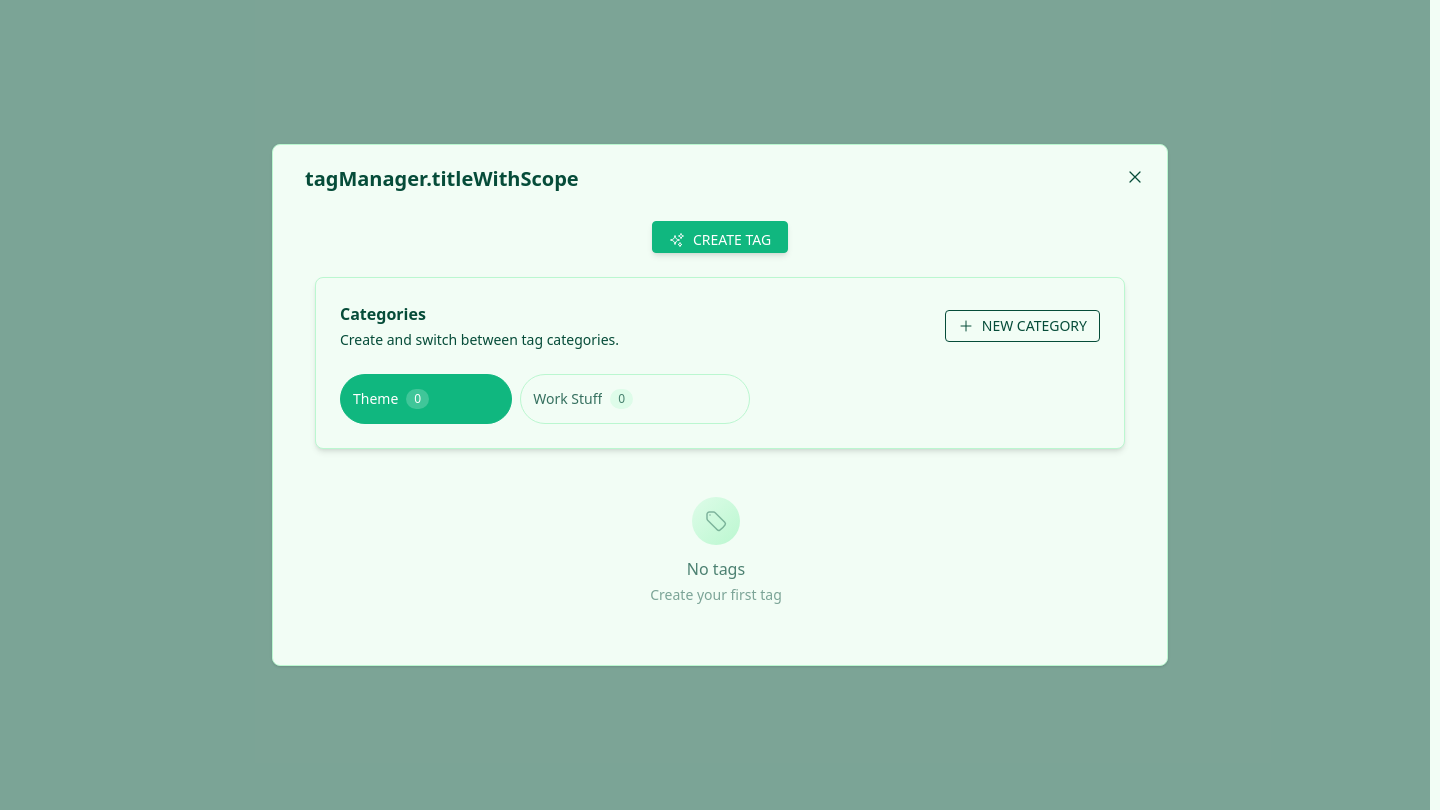
TagManagerModal category buttons › creates a new category from within the modal and selects it
Click the button "New category" at (1022, 326), box top-left (945, 310), bottom-right (1100, 342)
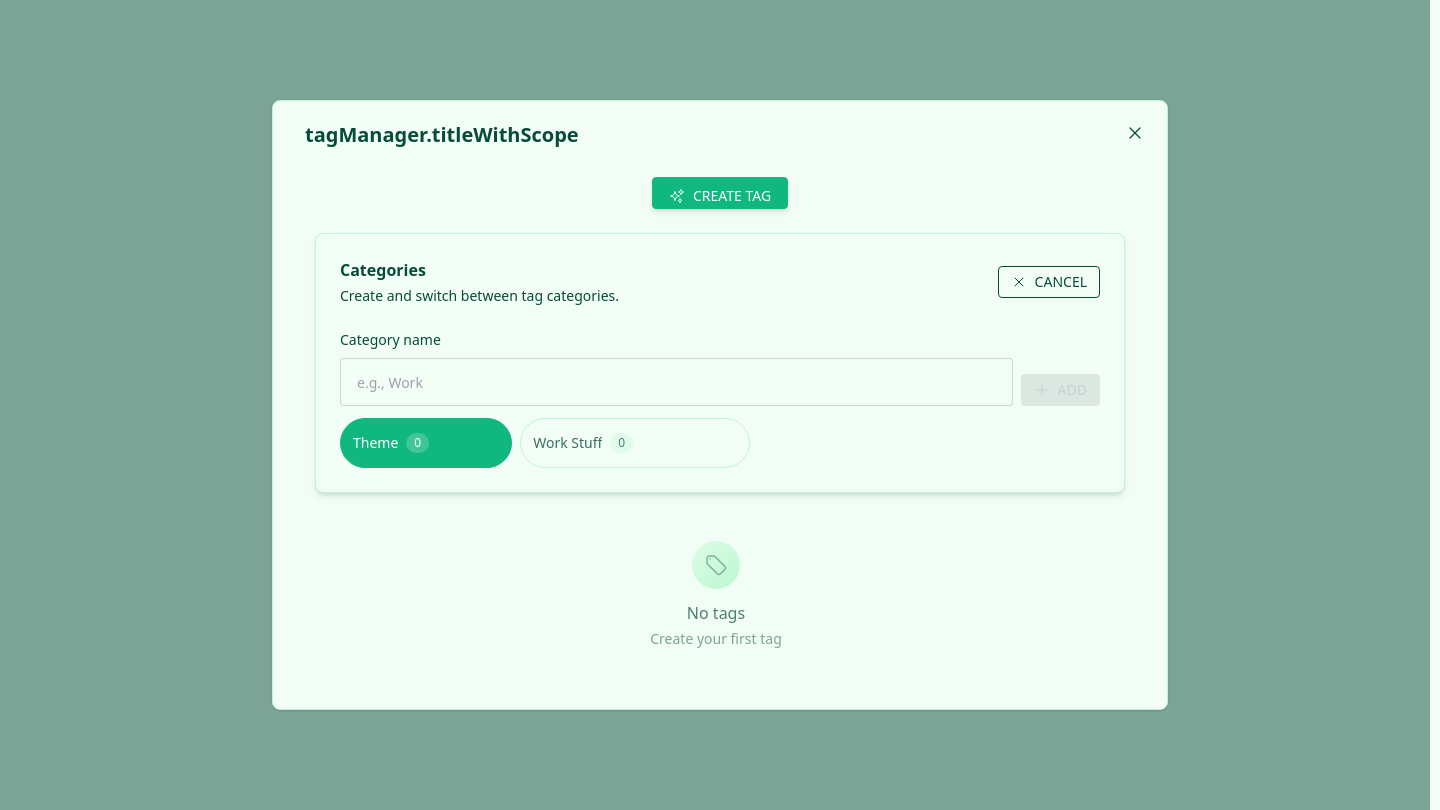
Type "Hobbies" into the field labelled "Category name" at (676, 382), box top-left (340, 358), bottom-right (1013, 406)
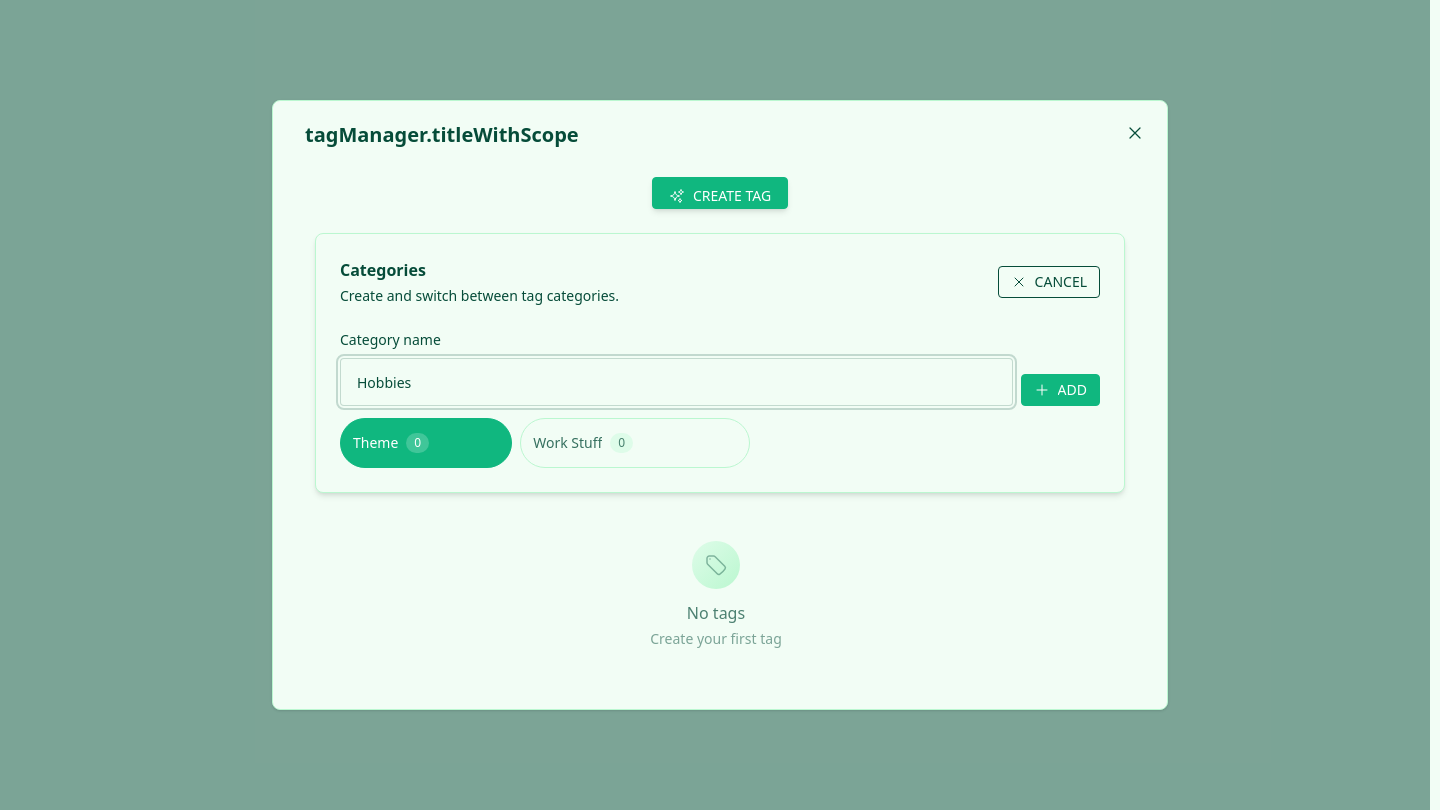
Click the button "Add" at (1060, 390), box top-left (1021, 374), bottom-right (1100, 406)
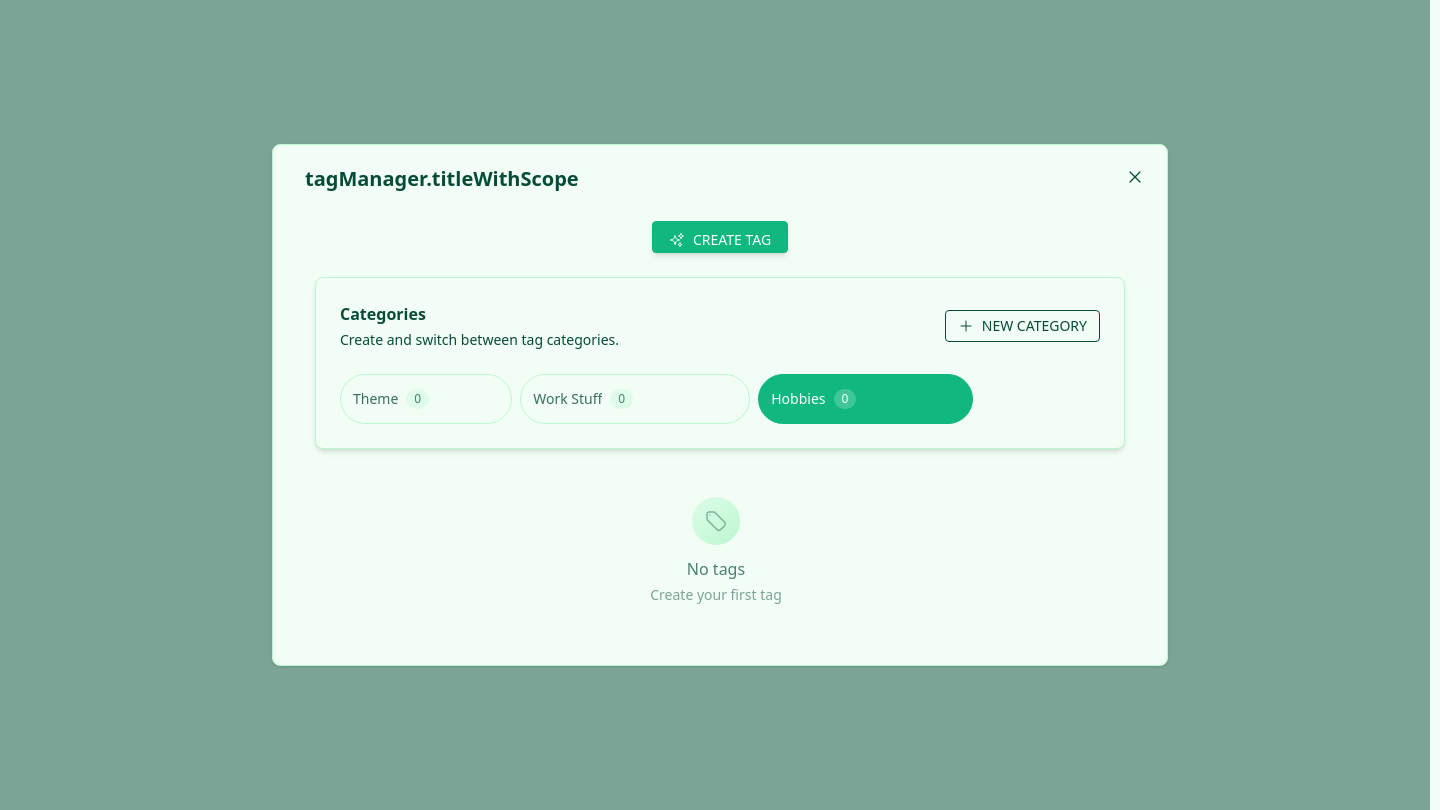
Check: the button "Hobbies 0" is shown, box top-left (771, 389), bottom-right (856, 409)
Check: the text "Hobbies" is shown, box top-left (771, 389), bottom-right (826, 409)
